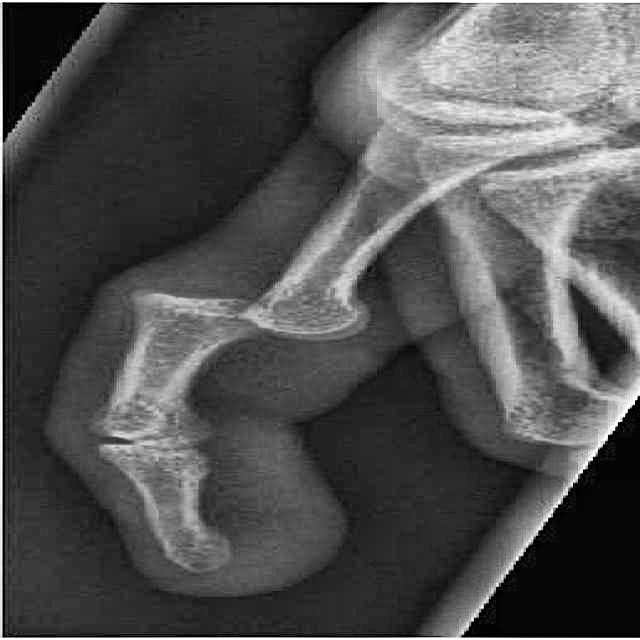Transverse: (100, 265, 417, 350)
